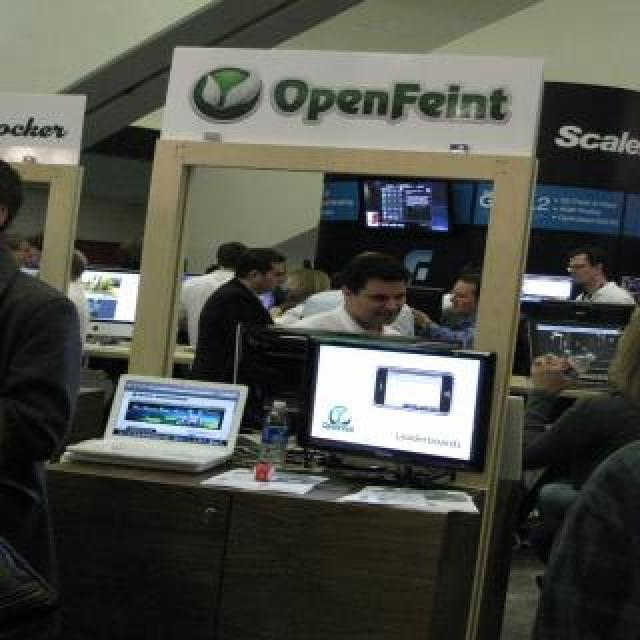laptop_computer: (303, 342, 497, 482), (78, 362, 247, 483), (510, 312, 640, 398), (75, 258, 160, 342)
